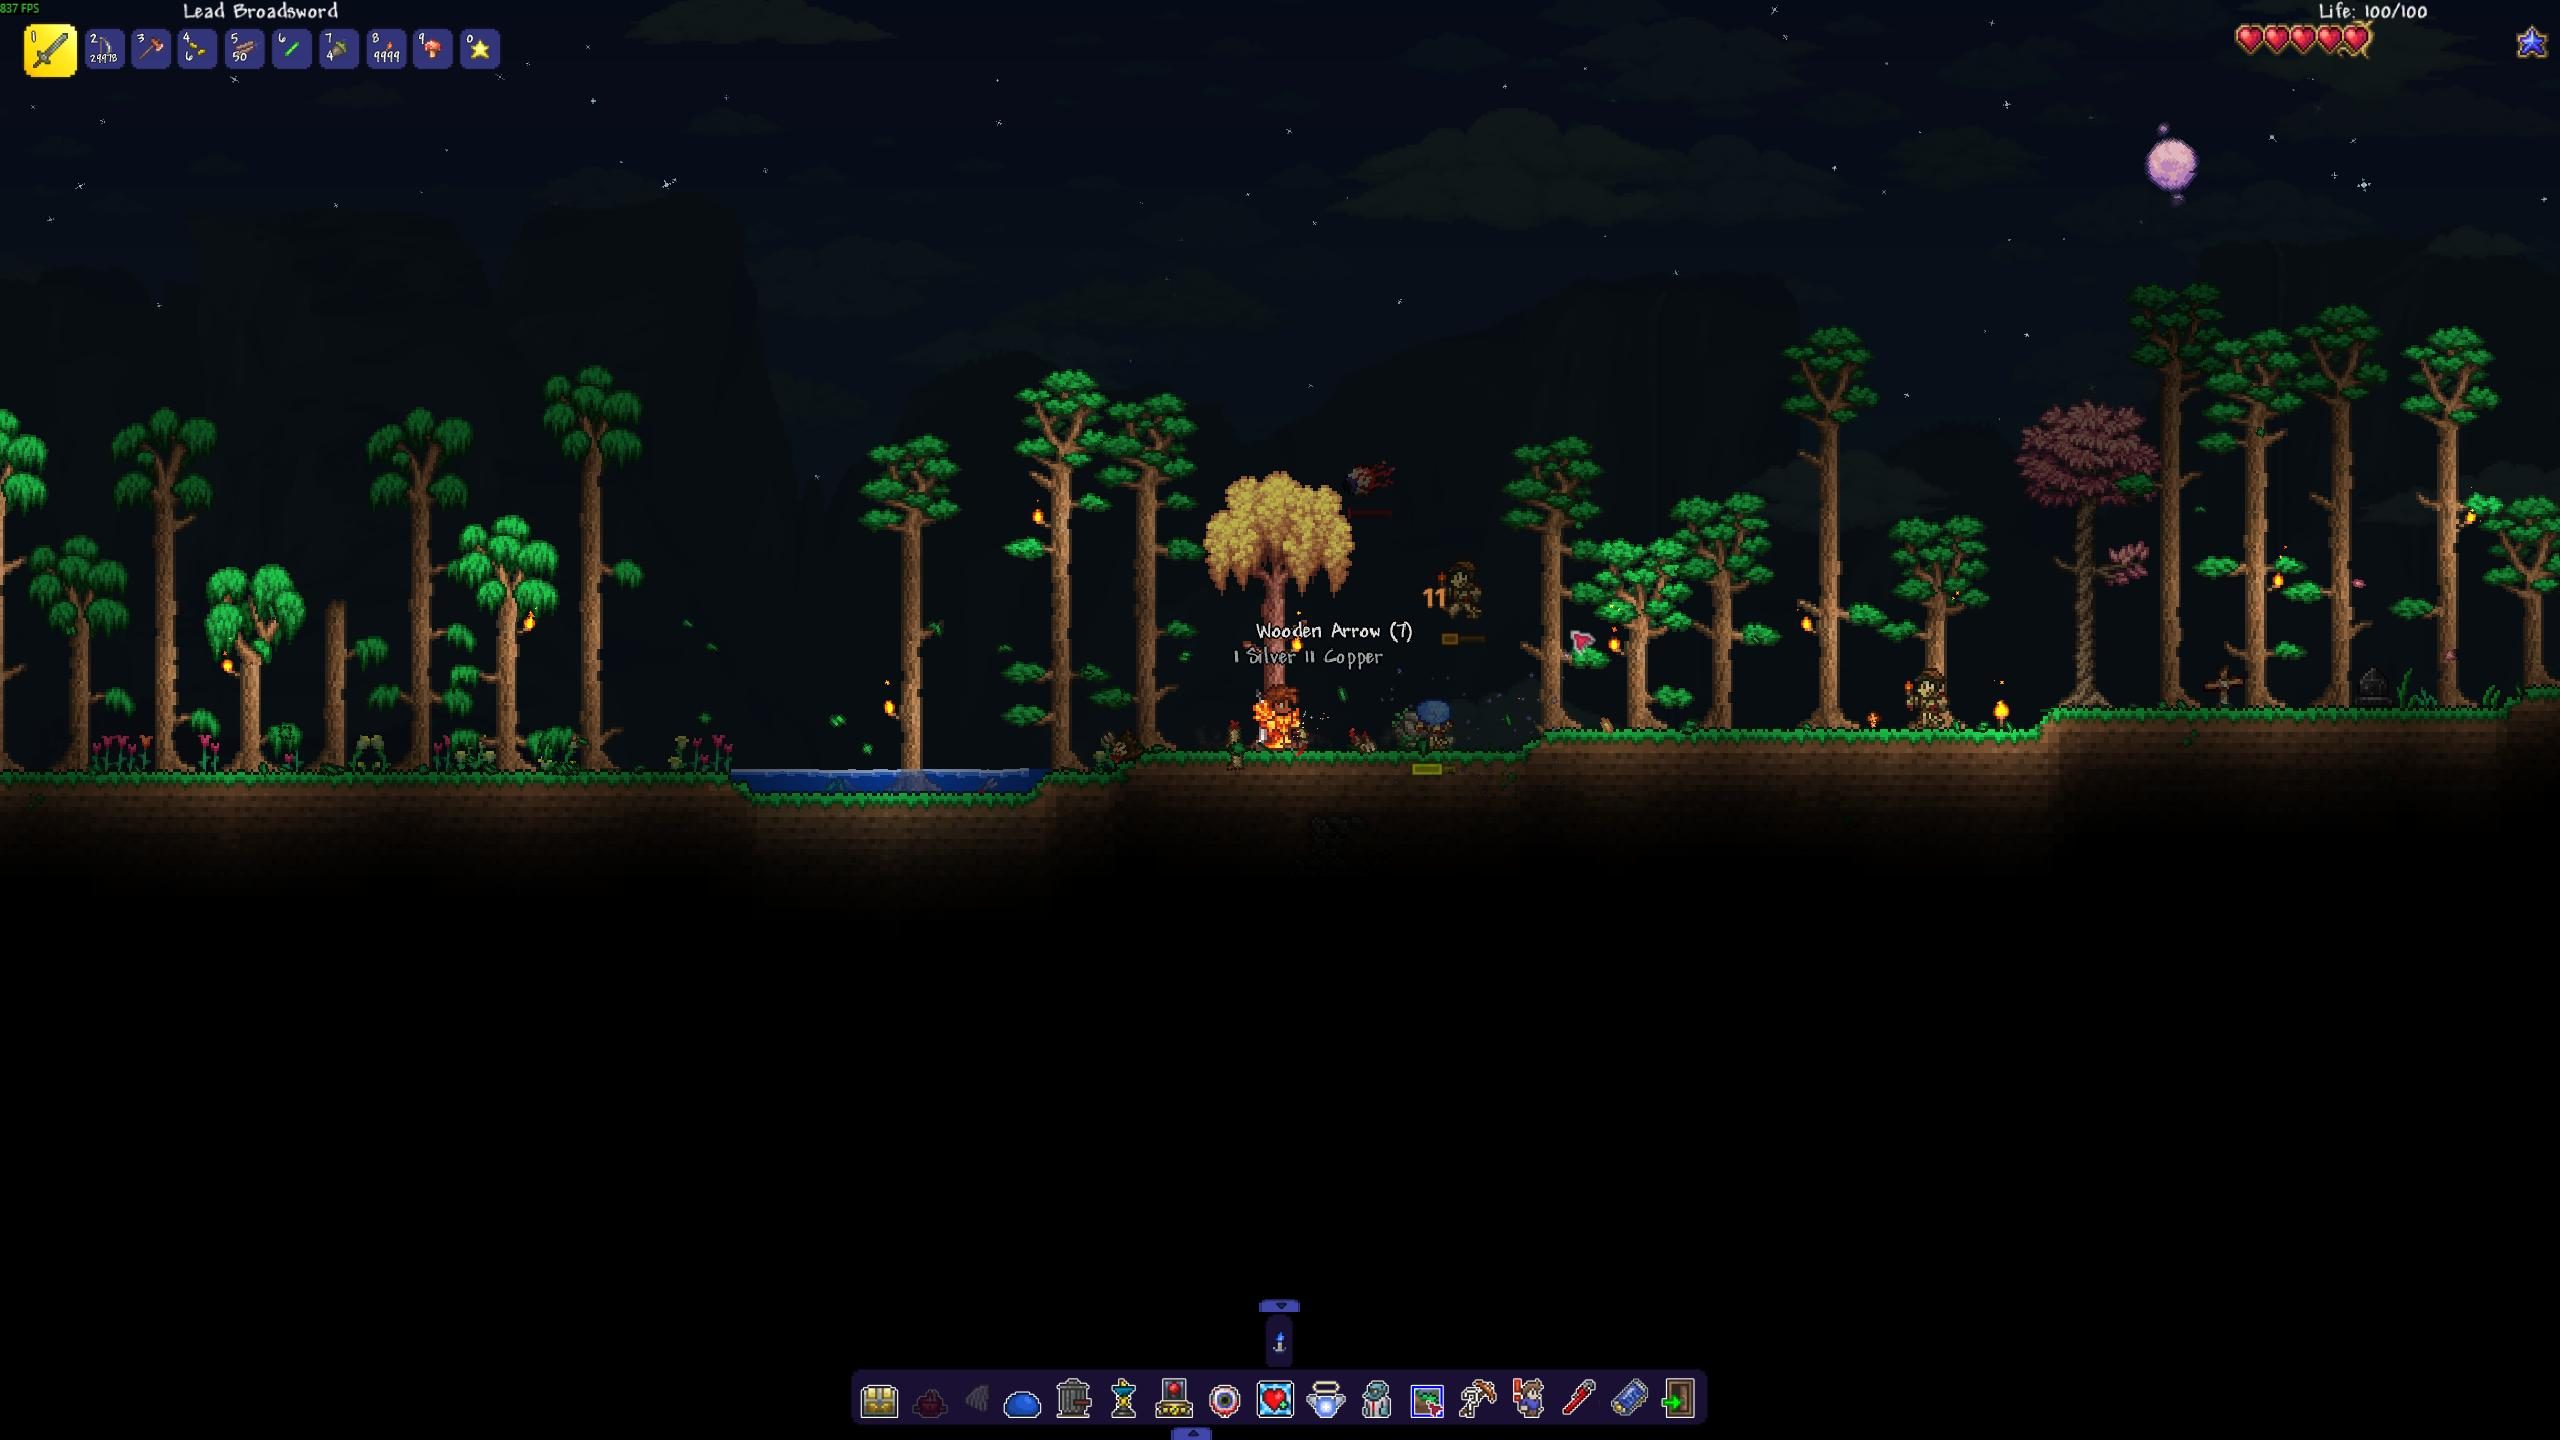Demon Eye: (1338, 455, 1401, 501)
Zombie: (1433, 552, 1495, 628), (1901, 663, 1952, 730), (1408, 695, 1461, 751)
